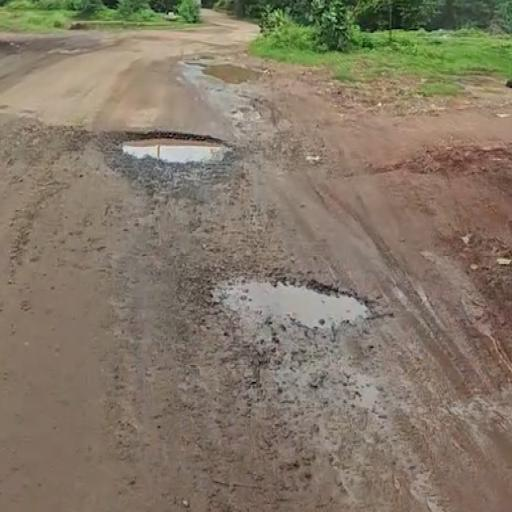pothole: (174, 203, 400, 412), (102, 68, 253, 201)
